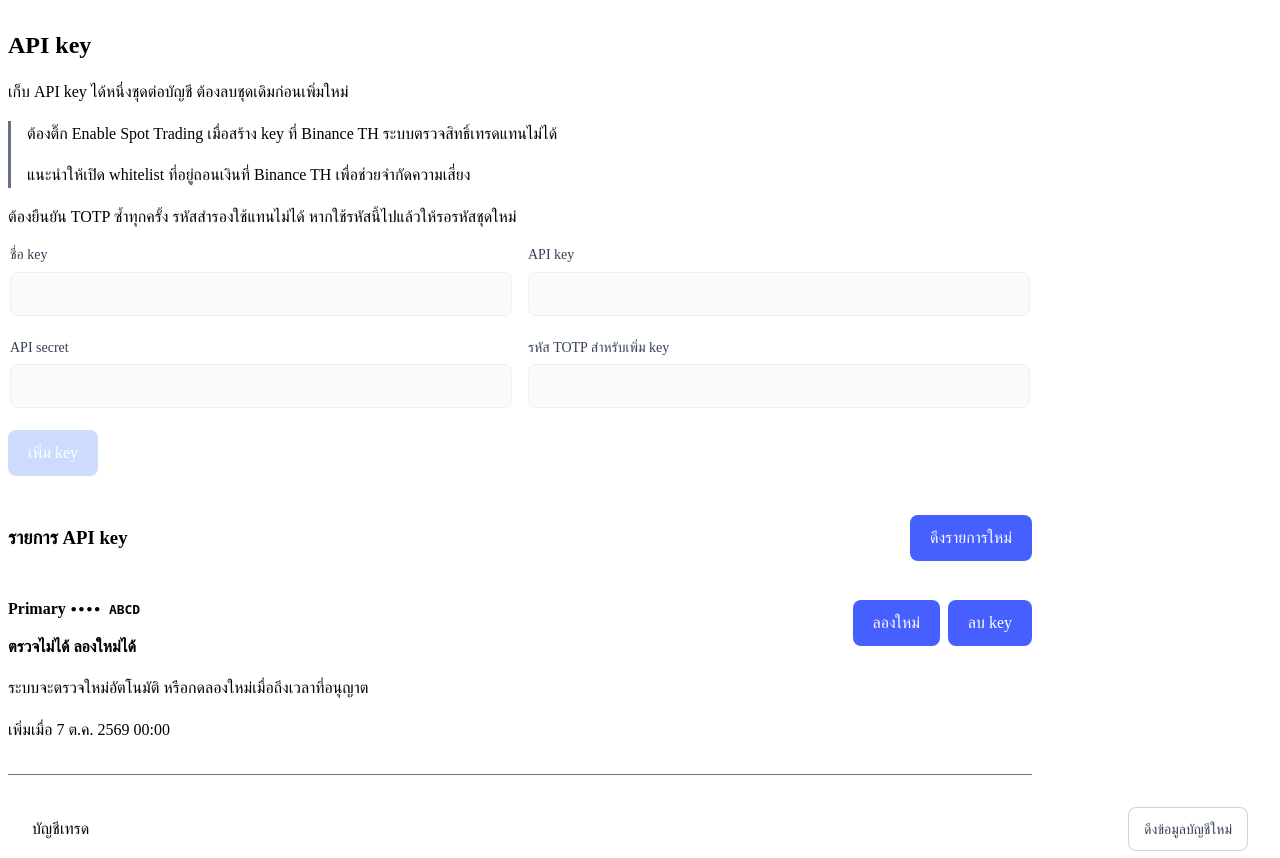
Scenario: retrying a key refetches its new status in the account panel
Click the button "ลองใหม่". click: (896, 622)
box: [852,600,940,646]
(page scrolled)
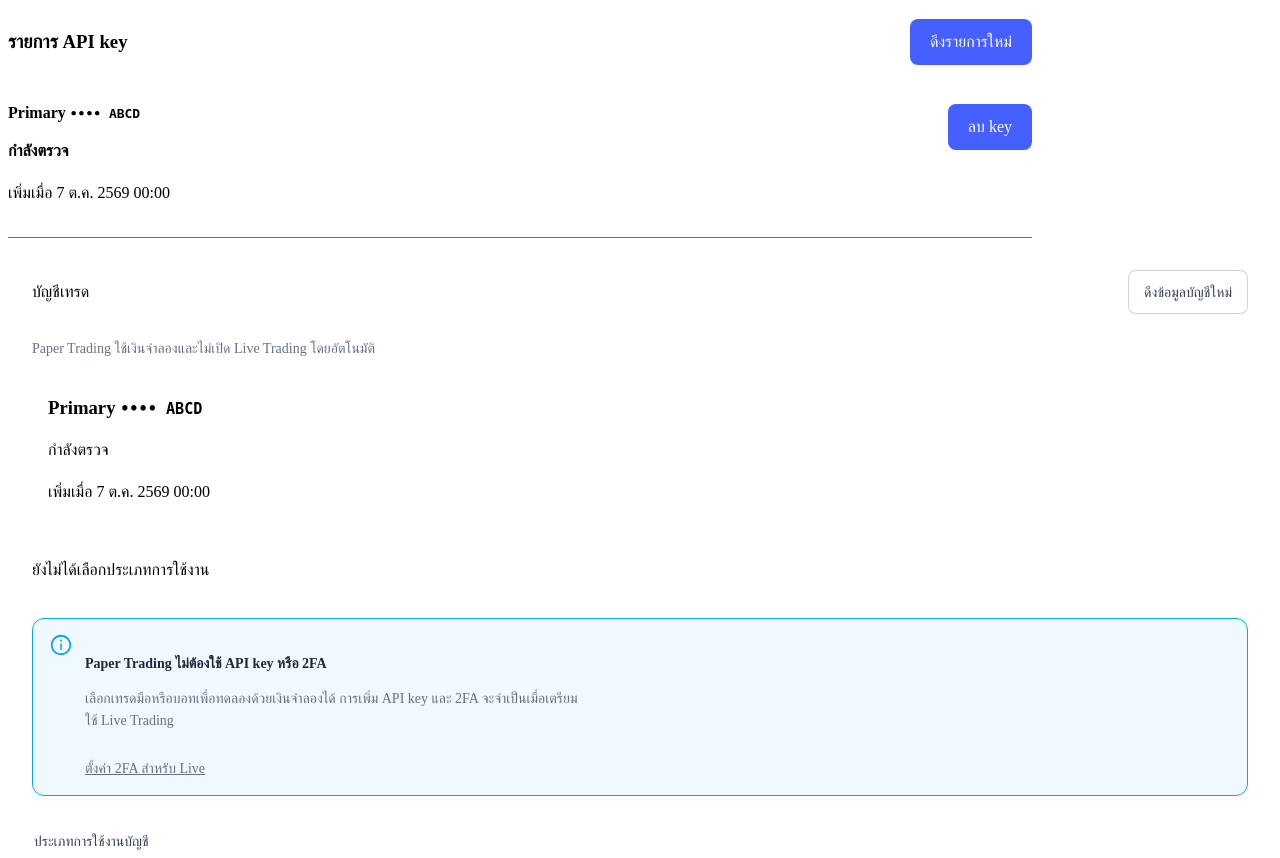
Expected: the text "กำลังตรวจ" below "บัญชีเทรด" is shown, [48,441,109,458]
